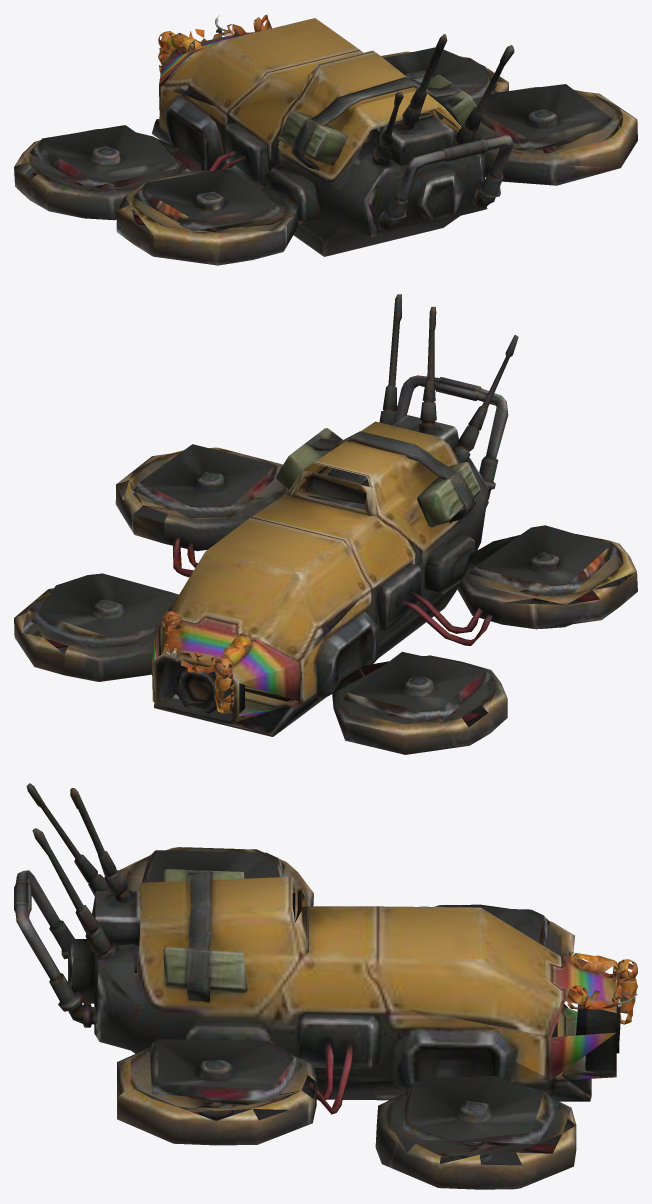
The model's file is flh7.glb.
The picture shows the model from 3 angles, top to bottom: view 1: azimuth 30°, elevation 25°; view 2: azimuth 150°, elevation 25°; view 3: azimuth 270°, elevation 25°; orthographic projection. The views are drawn at different scales.
Visible parts, largest first — view 1: Body, Trim; view 2: Body, Trim; view 3: Body, Trim.
Part boxes in pixels (left/top/right/bottom): Body: left=14, top=14, right=637, bottom=265; Trim: left=130, top=18, right=629, bottom=241; Body: left=14, top=294, right=637, bottom=754; Trim: left=123, top=421, right=636, bottom=713; Body: left=14, top=783, right=637, bottom=1189; Trim: left=131, top=847, right=637, bottom=1156.
Bounding box in the file's own units: 1.61 × 0.7897 × 1.57.
2 materials, 2 textured.
